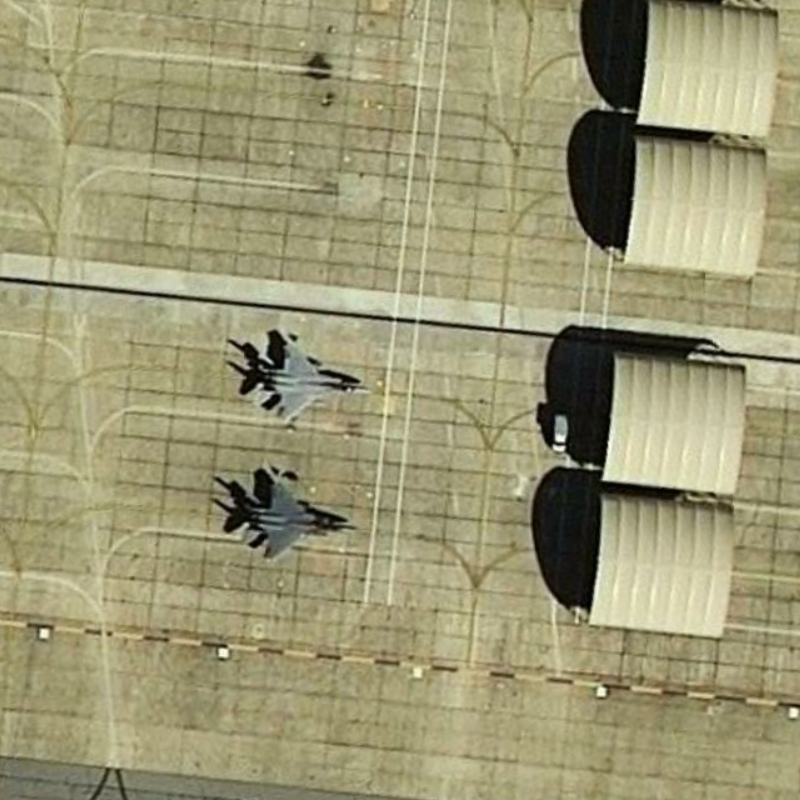A13: (226, 465, 366, 566), (244, 337, 374, 426)
